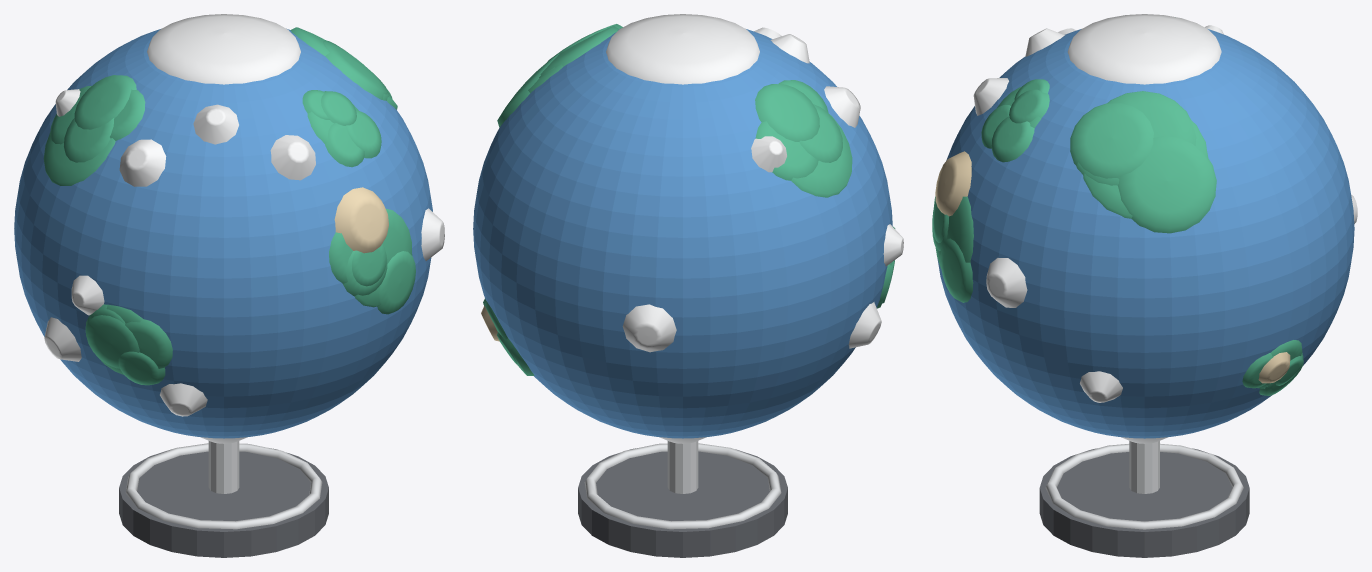
Rendered from solar-system-and-astronauts-earth-model-718249b7__39230.glb.
3 views of the same model, side by side, from view 1: azimuth 30°, elevation 25°; view 2: azimuth 150°, elevation 25°; view 3: azimuth 270°, elevation 25° (orthographic).
Visible parts, largest first — view 1: earth-model; view 2: earth-model; view 3: earth-model.
Part boxes in pixels (bbox=[...]): earth-model: bbox=[14, 14, 444, 557]; earth-model: bbox=[473, 14, 903, 557]; earth-model: bbox=[932, 14, 1357, 557].
Size of the model in its own units: 0.4442 by 0.5554 by 0.446.
